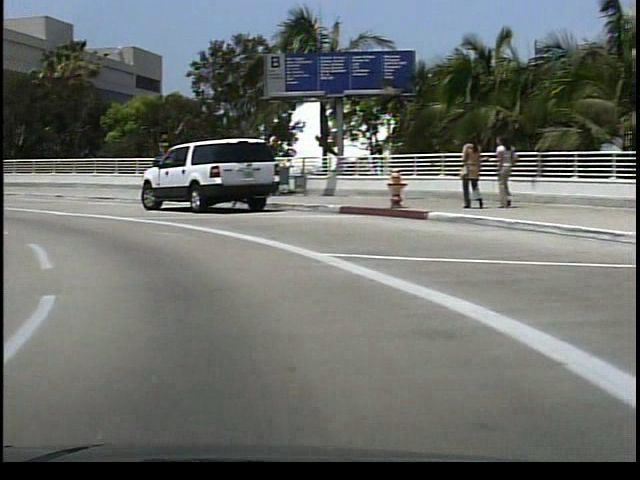person: (484, 133, 512, 211), (452, 130, 477, 215)
